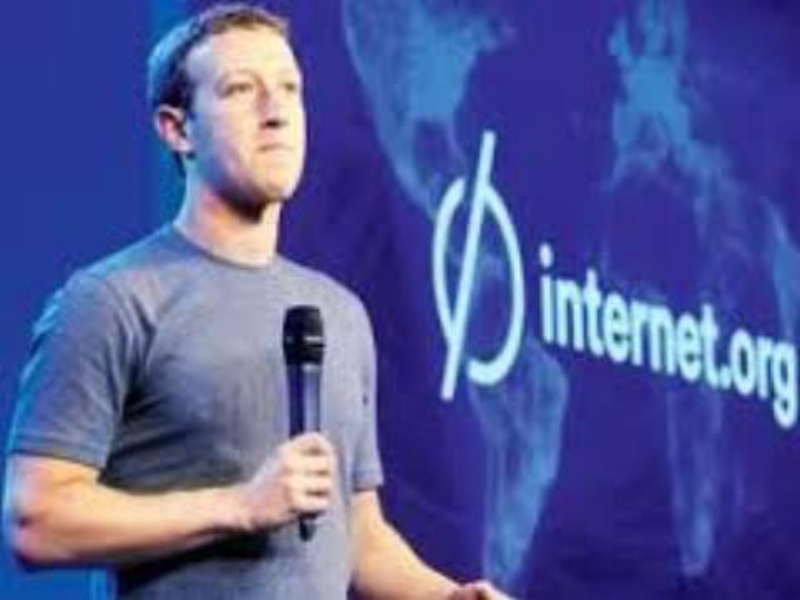TsisyArotava: (135, 2, 336, 239)
